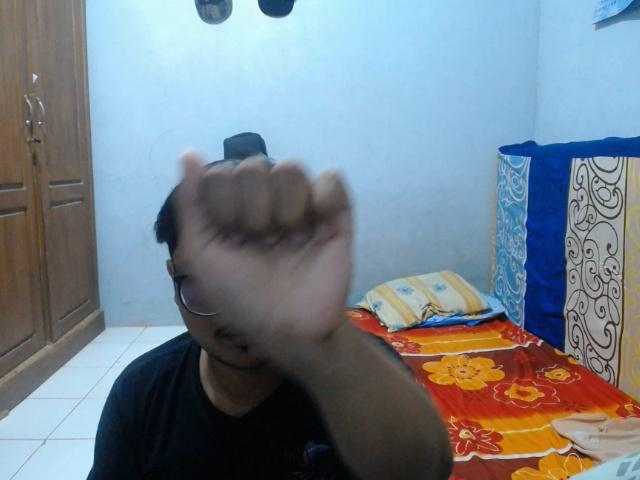Grab: (170, 143, 360, 356)
